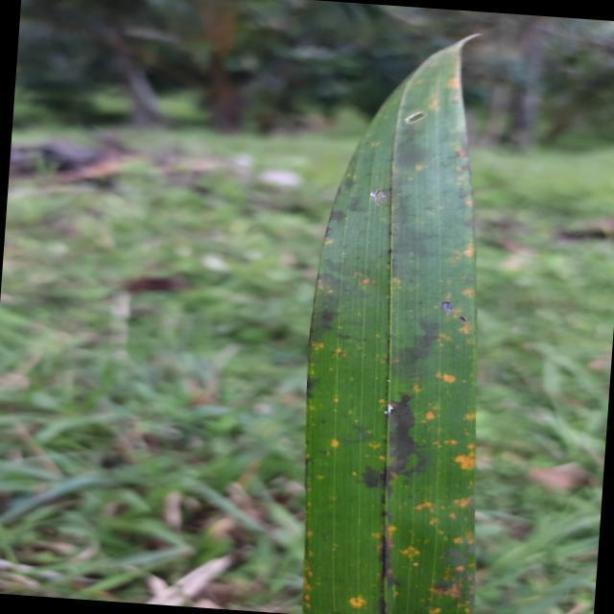Healthy: (303, 25, 479, 614)
